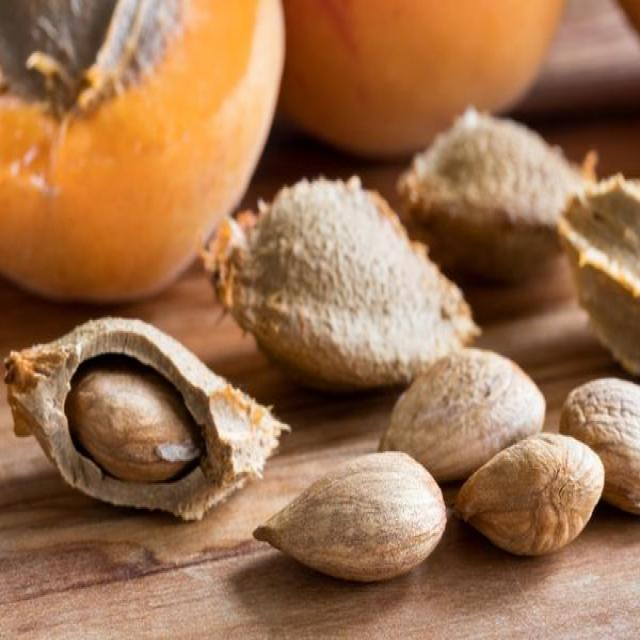kayisi: (0, 0, 285, 306), (283, 0, 573, 136)
kayisi cekirdegi: (6, 324, 285, 534), (208, 170, 478, 376), (401, 105, 580, 262), (261, 456, 446, 586), (384, 343, 544, 465), (559, 154, 640, 371), (460, 440, 602, 558), (0, 0, 124, 112), (569, 375, 640, 524)
